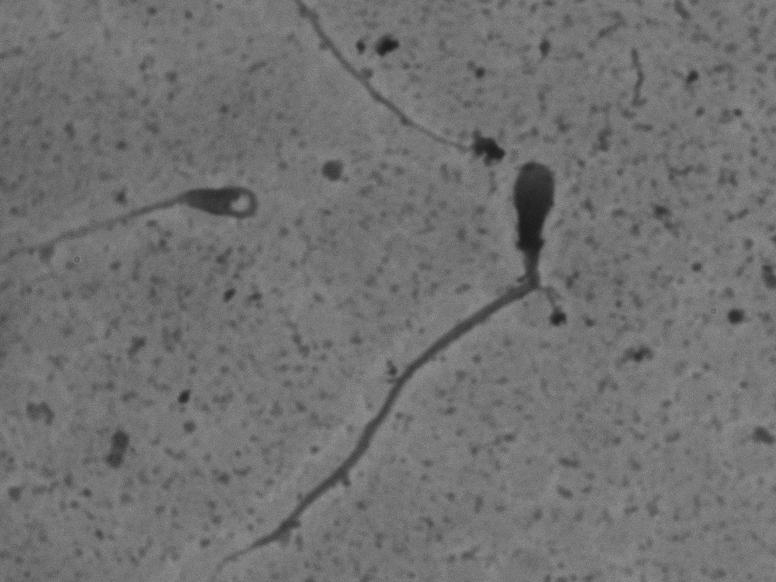Abnormal: (193, 149, 567, 574), (20, 145, 300, 312)
